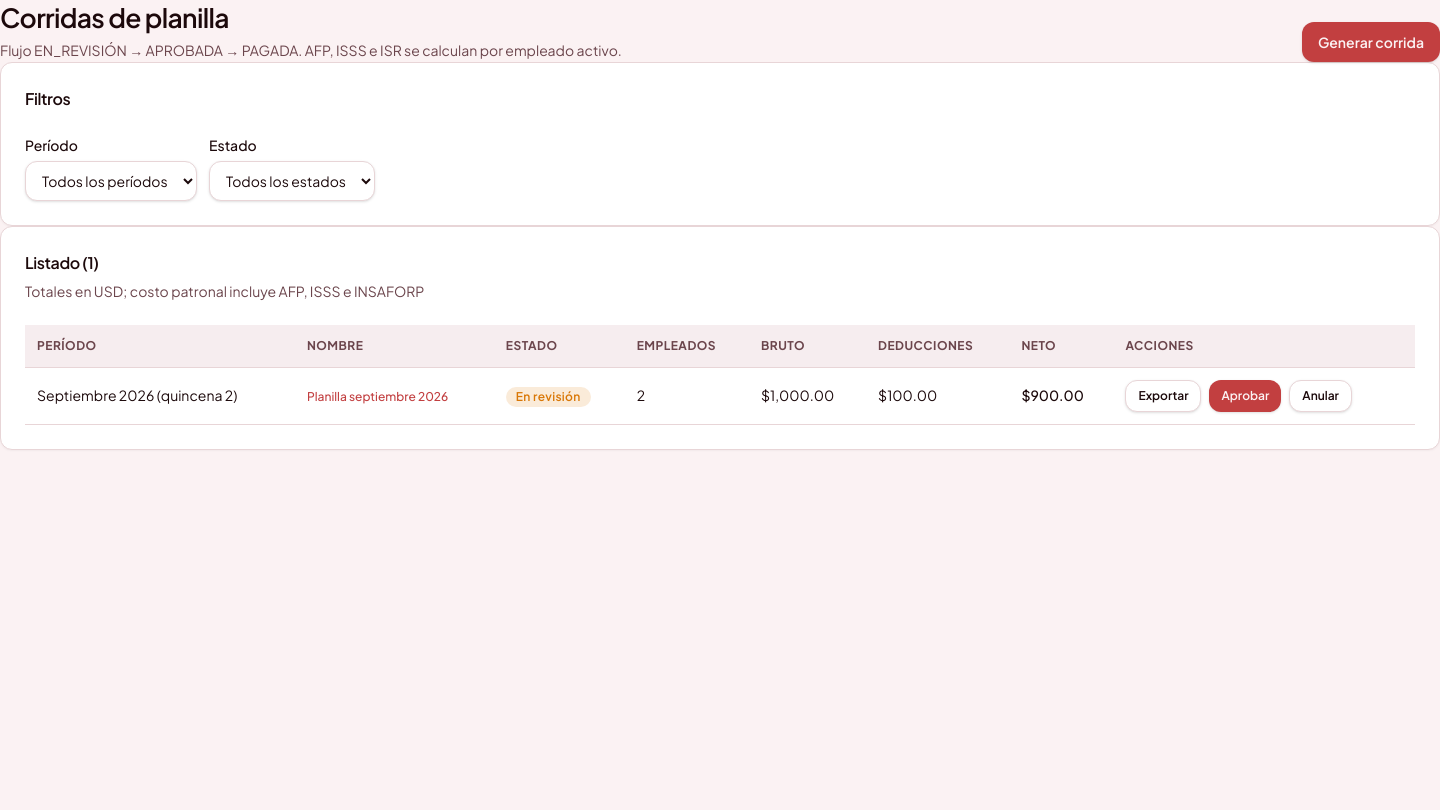
Test: confirmaciones financieras de planilla › muestra el error de la API dentro del diálogo y permite reintentar
Click the button "Aprobar" at (1245, 396), box 1210,380 -> 1281,412
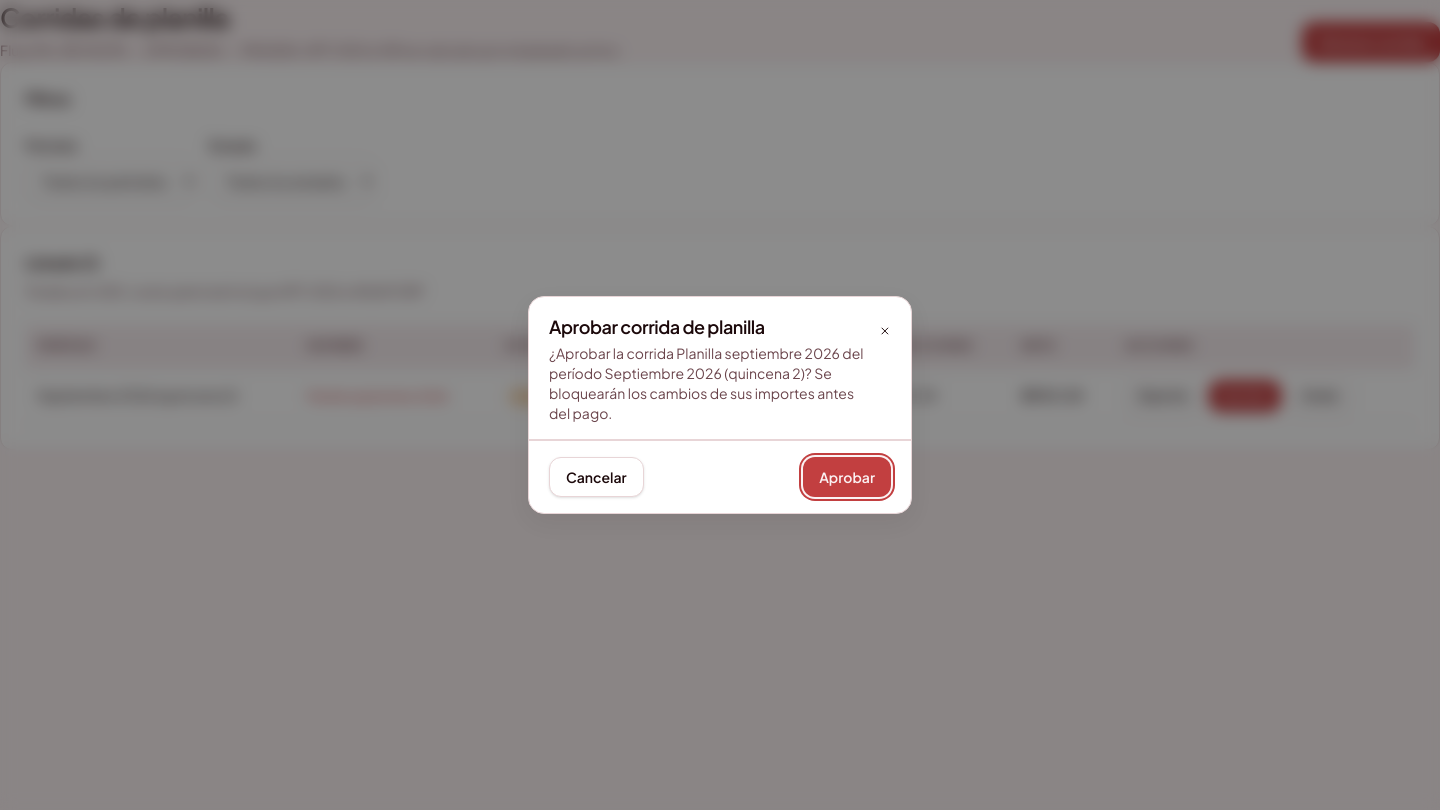
Click the button "Aprobar" at (847, 477), box 803,457 -> 891,497
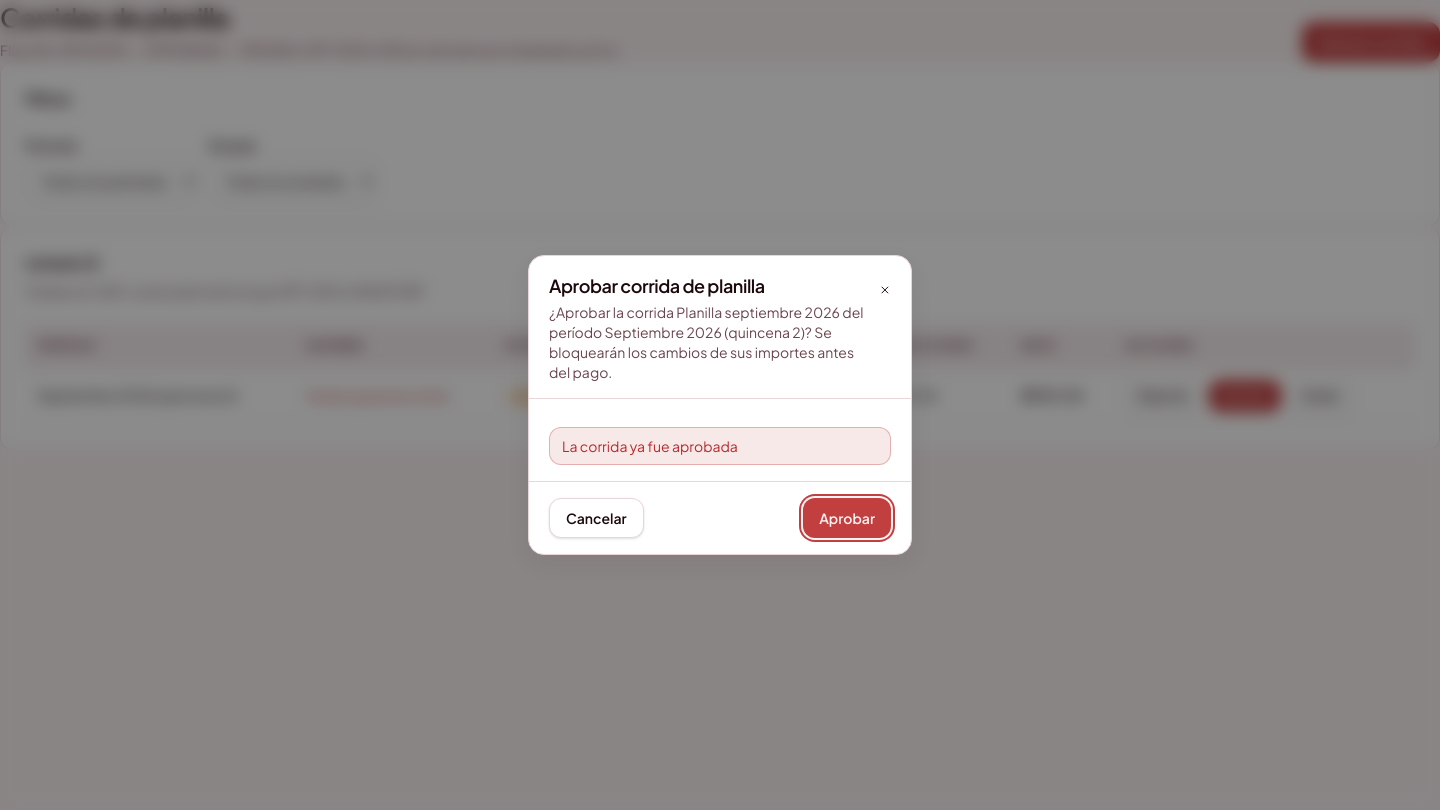
Expected: the dialog is shown, 528,255 -> 912,555
Expected: the message reads "La corrida ya fue aprobada", 562,437 -> 738,455
